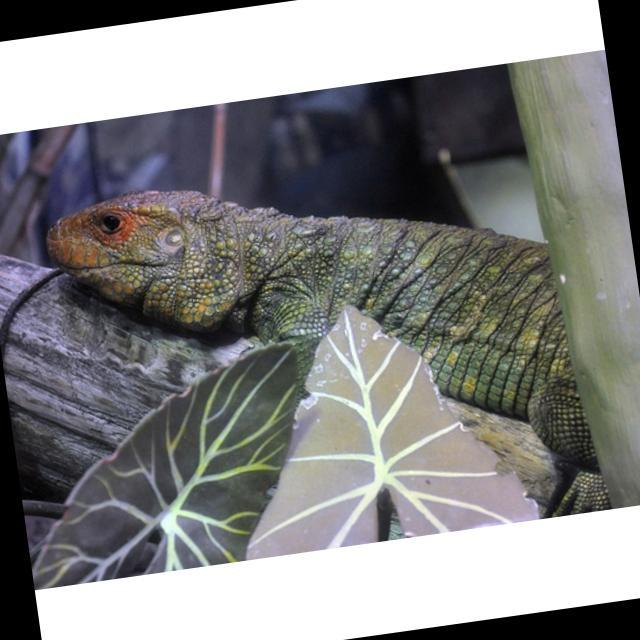KomodoDragon: (33, 70, 621, 577)
